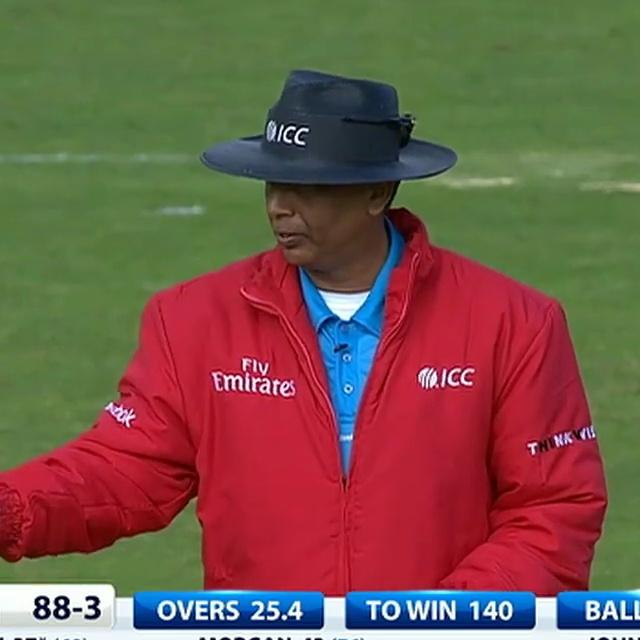umpire: (0, 31, 640, 590)
